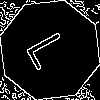L: (25, 25, 78, 72)
